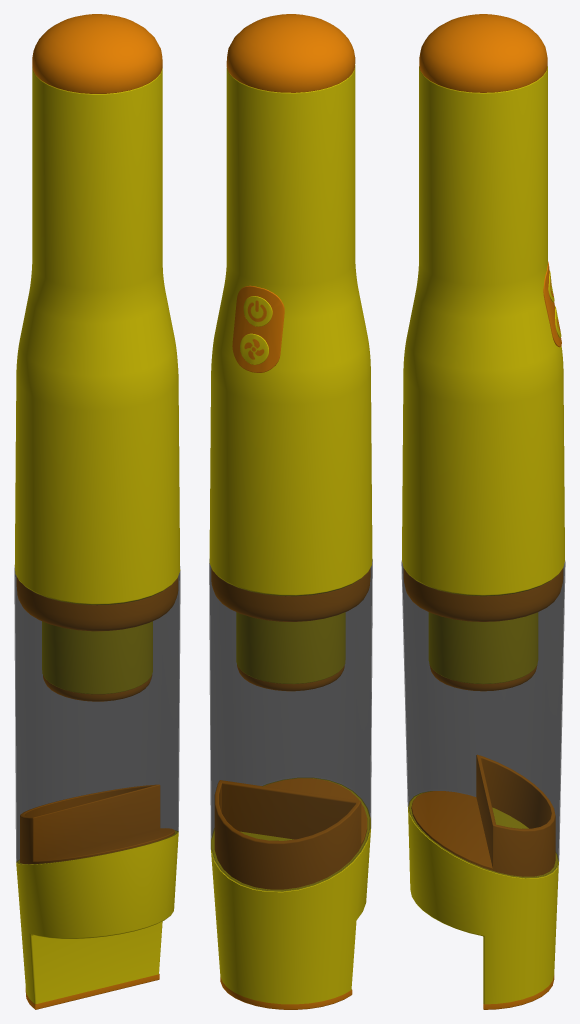
The model's file is HHVacuum.fbx.
3 renders of one model, left to right at view 1: azimuth 30°, elevation 25°; view 2: azimuth 150°, elevation 25°; view 3: azimuth 270°, elevation 25°, orthographic.
Visible parts, largest first — view 1: Body, Plastic, Bottom, LowerTube, Top, InsideTopRim, BottomLip, InsideLowerLip; view 2: Body, Plastic, Bottom, LowerTube, Top, InsideTopRim, ButtonBase, BottomLip, InsideLowerLip, ButtonBottom, ButtonTop; view 3: Body, Plastic, Bottom, LowerTube, Top, InsideTopRim, InsideLowerLip, ButtonBase, BottomLip.
Part boxes in pixels (x1,y1,x2,y2): Body: (14,67,180,694); Plastic: (14,566,180,864); Bottom: (16,830,178,1003); LowerTube: (20,784,174,864); Top: (32,14,162,93); InsideTopRim: (16,577,178,631); BottomLip: (25,974,159,1009); InsideLowerLip: (43,674,152,701); Body: (209,65,372,684); Plastic: (209,559,372,891); Bottom: (211,778,370,1004); LowerTube: (214,778,367,889); Top: (226,14,355,92); InsideTopRim: (211,568,370,621); ButtonBase: (232,285,284,372); BottomLip: (220,977,352,1009); InsideLowerLip: (237,664,344,691); ButtonBottom: (240,333,268,364); ButtonTop: (243,296,272,326); Body: (402,66,564,684); Plastic: (401,561,565,878); Bottom: (408,791,558,1004); LowerTube: (411,754,555,876); Top: (419,14,547,92); InsideTopRim: (403,568,563,621); InsideLowerLip: (429,665,537,691); ButtonBase: (543,261,561,347); BottomLip: (483,975,554,1009).
Size of the model in its own units: 187 by 1204 by 187.
